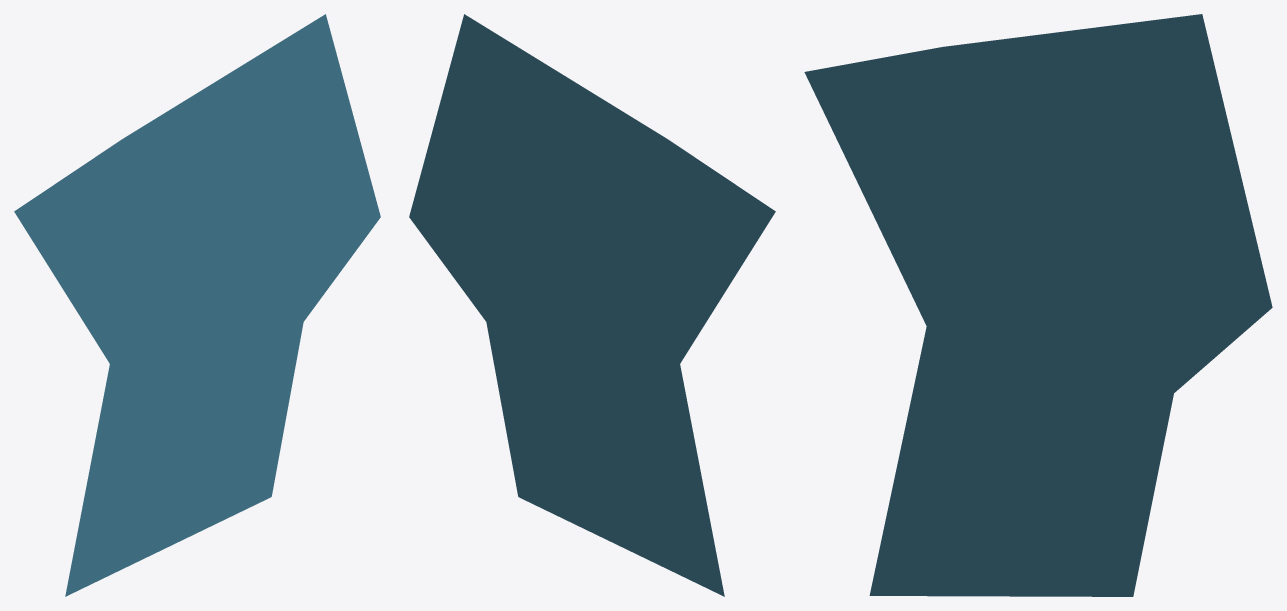
File: NexusA_Cloth_12.fbx
The picture shows the model from 3 angles, left to right: view 1: azimuth 30°, elevation 25°; view 2: azimuth 150°, elevation 25°; view 3: azimuth 330°, elevation 25°; orthographic projection. The views are drawn at different scales.
Visible parts, largest first — view 1: pasted__polySurface51; view 2: pasted__polySurface51; view 3: pasted__polySurface51.
Part boxes in pixels (x1,y1,x2,y2): pasted__polySurface51: (14,14,380,596); pasted__polySurface51: (409,14,775,596); pasted__polySurface51: (804,14,1272,596).
Size of the model in its own units: 31.66 by 42.83 by 0.
